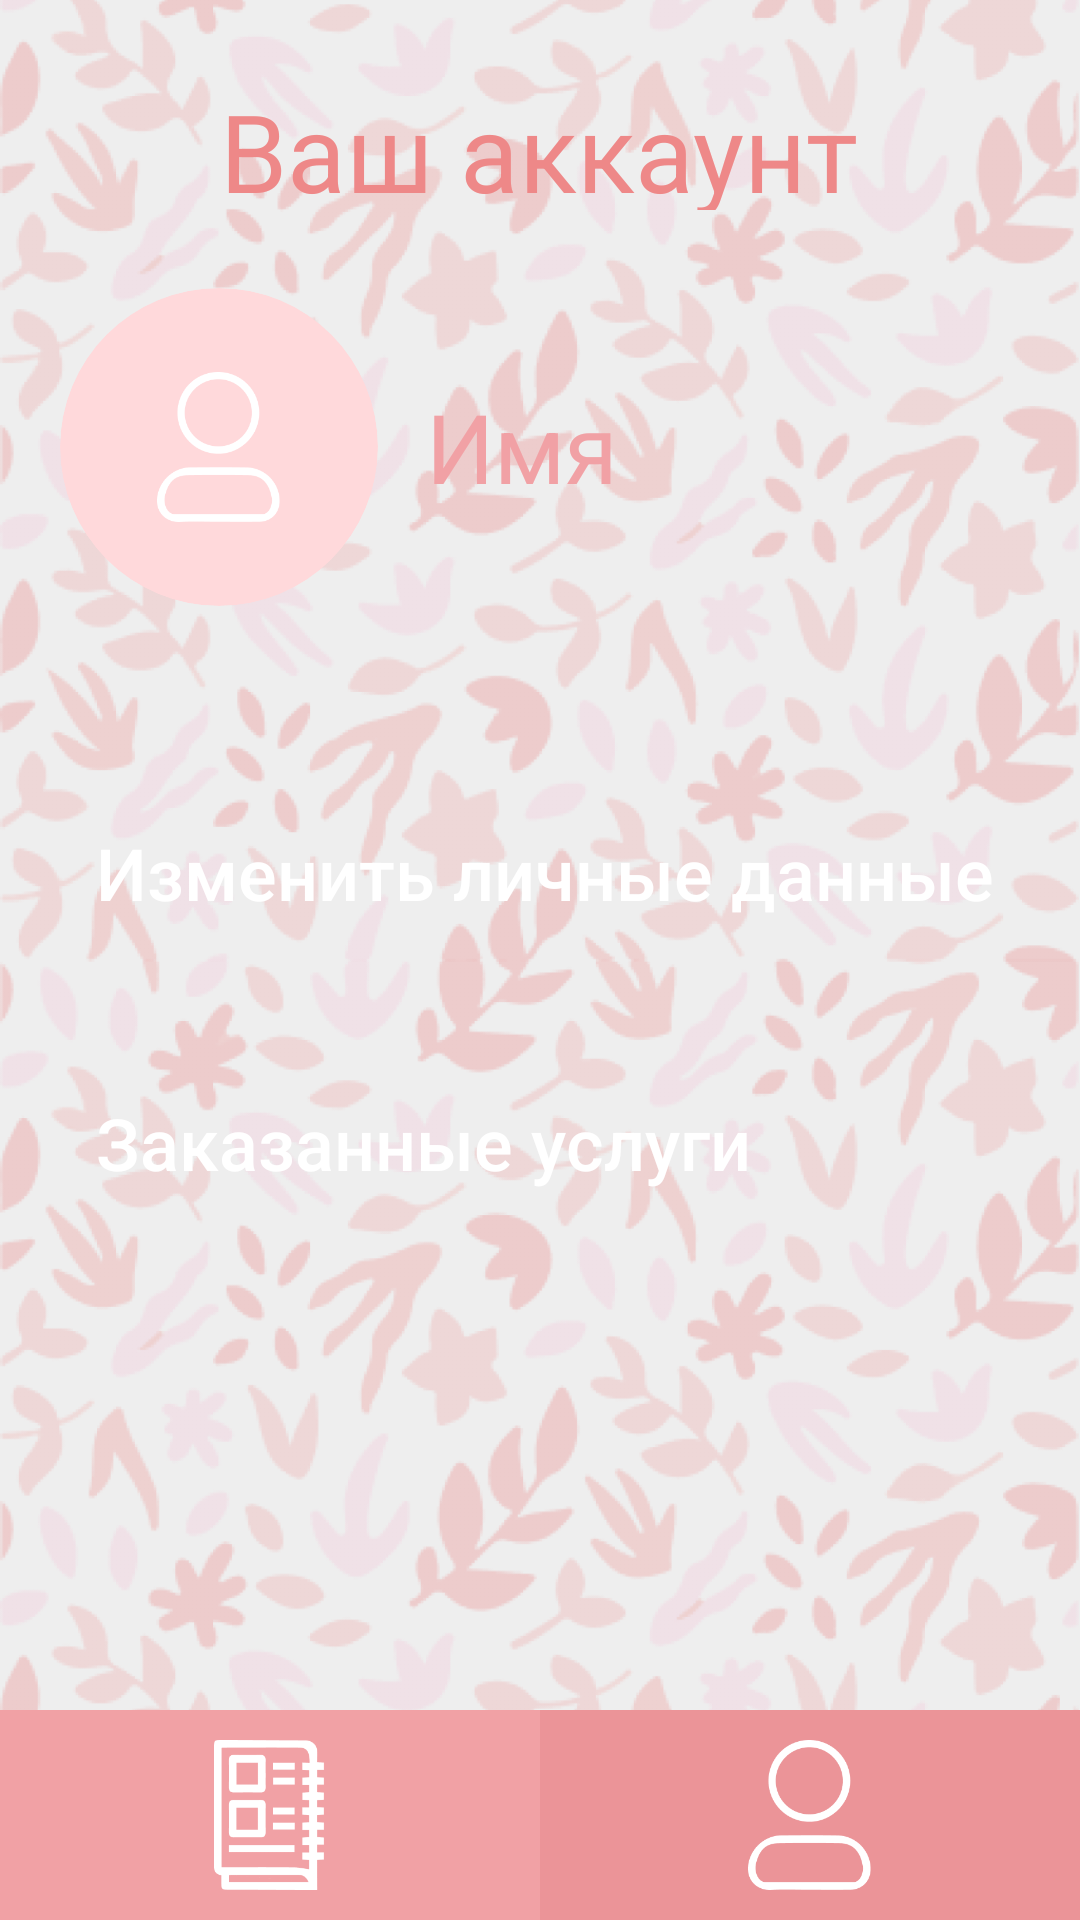

Screen size 1080*1920. Icon name, then its center in pixels as (x=x, y=y):
account: (x=809, y=1815)
catalog: (x=269, y=1815)
noavatar: (x=219, y=447)
